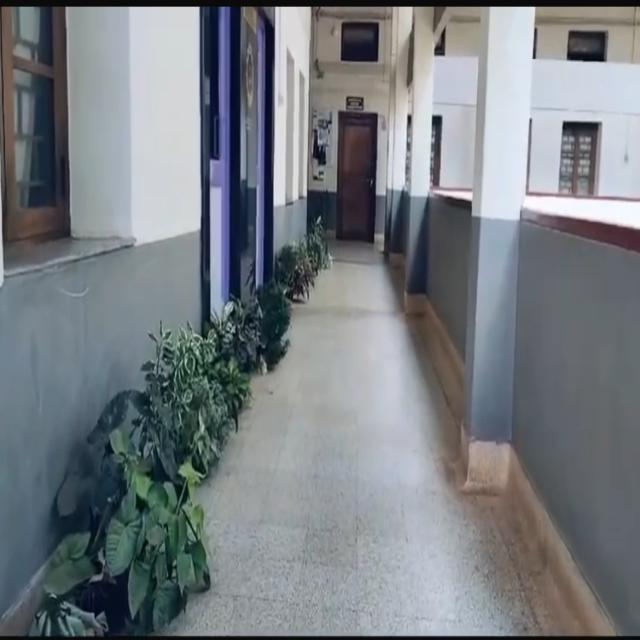pillar ahead at: (476, 4, 524, 487), (409, 1, 433, 305)
plant ahead at: (61, 434, 198, 630), (157, 331, 239, 444)
